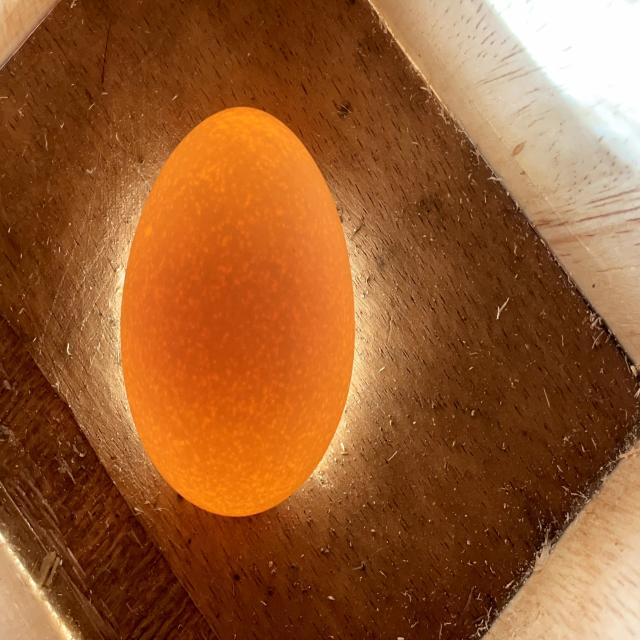infertile: (121, 107, 355, 517)
